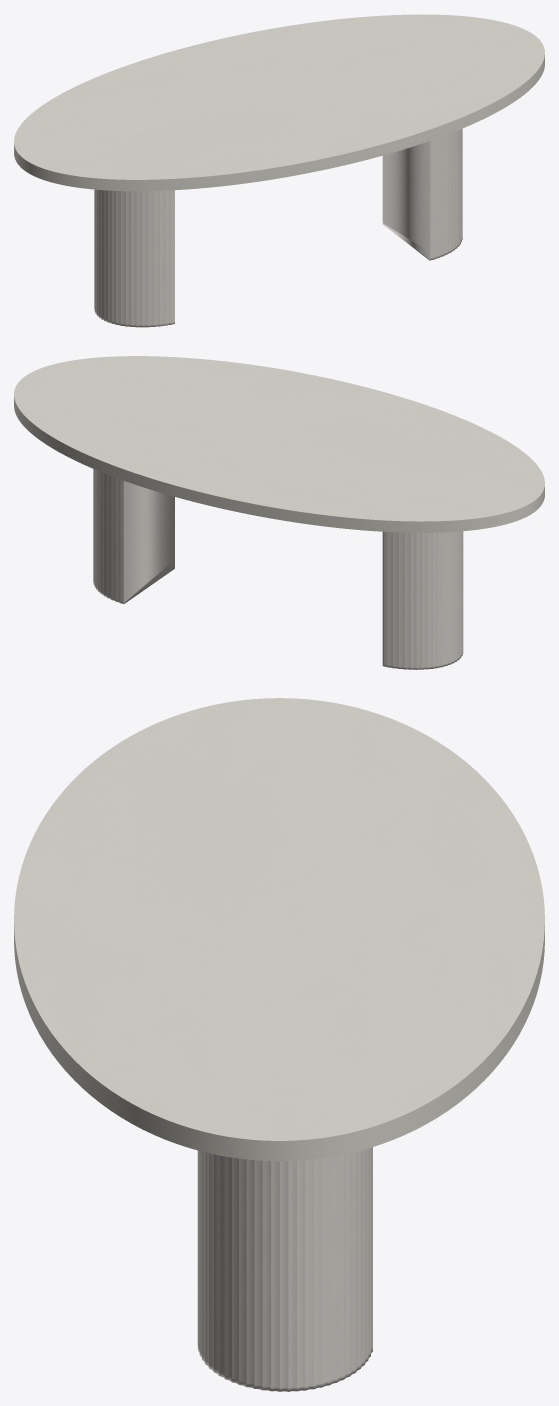
File: pale_ellips_standard_flute.glb
3 renders of one model, top to bottom at view 1: azimuth 30°, elevation 25°; view 2: azimuth 150°, elevation 25°; view 3: azimuth 270°, elevation 25°, orthographic. The views are drawn at different scales.
Visible parts, largest first — view 1: standard_ellips, flute; view 2: standard_ellips, flute; view 3: standard_ellips, flute.
Part boxes in pixels (x1,y1,x2,y2): standard_ellips: (14,14,544,191); flute: (94,128,462,327); standard_ellips: (14,356,544,532); flute: (93,469,463,669); standard_ellips: (14,698,544,1161); flute: (197,1147,372,1391).
Size of the model in its own units: 7.5 by 2.5 by 3.8.
Materials: 2 (2 with a texture image).
